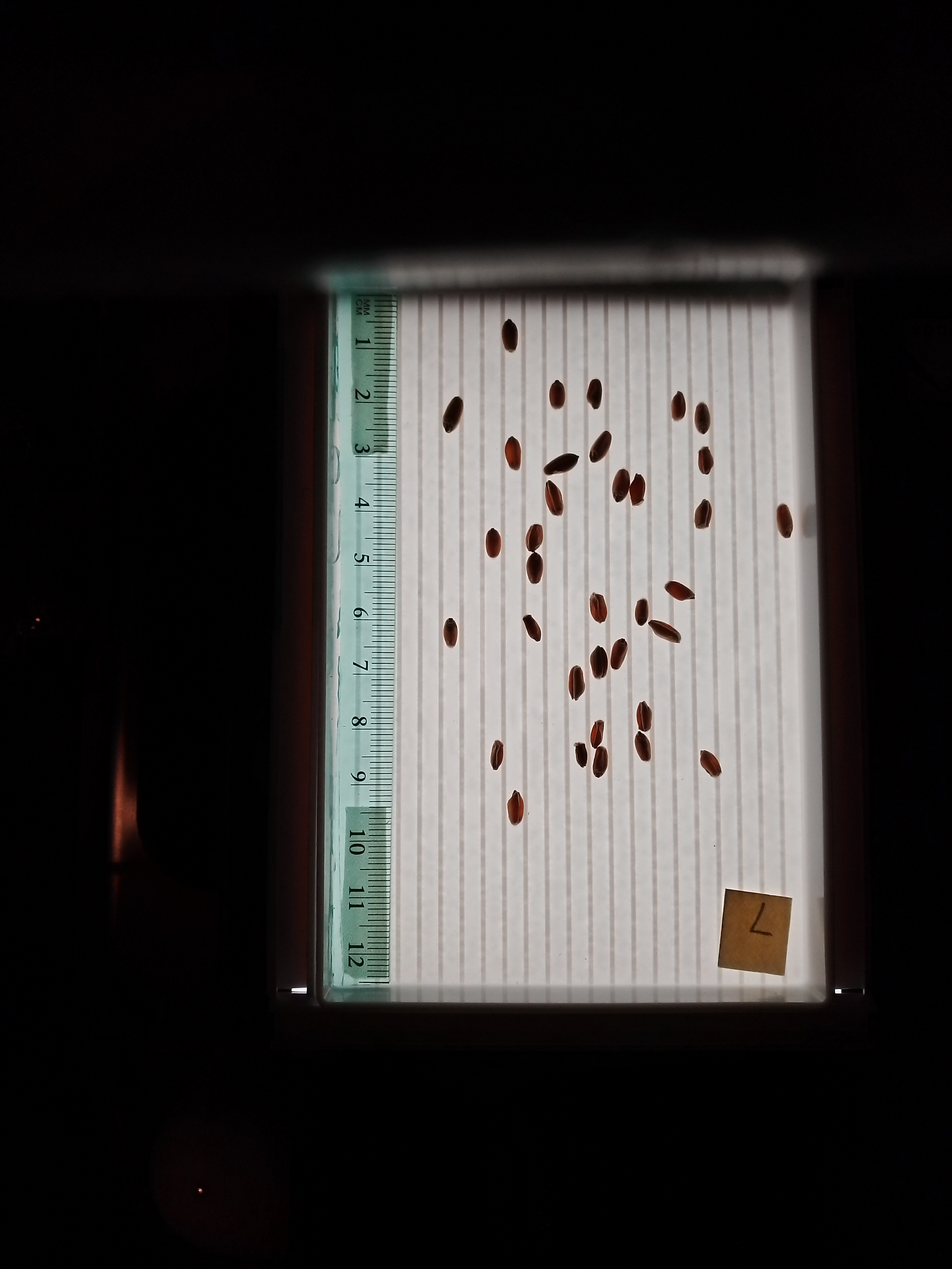seed mask: (544, 453, 578, 476), (650, 619, 681, 644), (443, 397, 463, 433), (590, 432, 611, 462), (545, 482, 564, 515), (612, 470, 630, 502), (507, 792, 524, 825), (700, 751, 721, 777), (502, 320, 519, 352), (777, 504, 793, 538), (610, 638, 627, 670), (569, 666, 585, 700), (505, 437, 521, 470), (591, 647, 608, 678), (666, 581, 693, 600), (695, 403, 711, 434), (630, 475, 646, 506), (695, 500, 712, 529), (527, 554, 543, 584), (590, 595, 607, 623), (523, 615, 541, 641), (593, 746, 608, 777), (637, 703, 652, 733), (443, 619, 459, 647), (635, 733, 651, 761), (526, 525, 543, 551), (587, 379, 602, 408), (486, 529, 501, 558), (698, 447, 713, 474), (550, 382, 565, 408), (671, 393, 685, 420), (491, 741, 504, 770), (635, 600, 648, 625), (591, 721, 603, 747), (575, 743, 587, 767)
